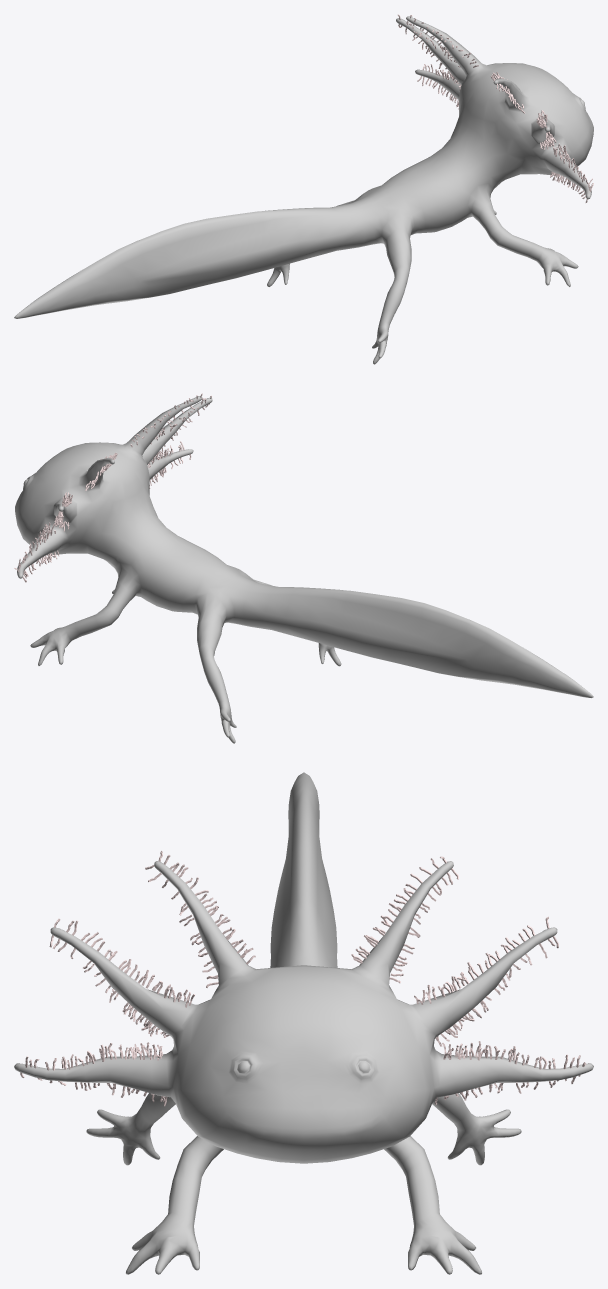
3 views of the same model, one above another, from view 1: azimuth 30°, elevation 25°; view 2: azimuth 150°, elevation 25°; view 3: azimuth 270°, elevation 25° (orthographic). The views are drawn at different scales.
Parts seen in each view (by area): view 1: axl_low, Curves; view 2: axl_low, Curves; view 3: axl_low, Curves.
Part boxes in pixels (bbox=[...]): axl_low: bbox=[14, 16, 593, 364]; Curves: bbox=[397, 14, 593, 202]; axl_low: bbox=[15, 396, 593, 743]; Curves: bbox=[14, 393, 211, 582]; axl_low: bbox=[14, 772, 593, 1274]; Curves: bbox=[20, 851, 586, 1106].
Size of the model in its own units: 927 by 389 by 489.
